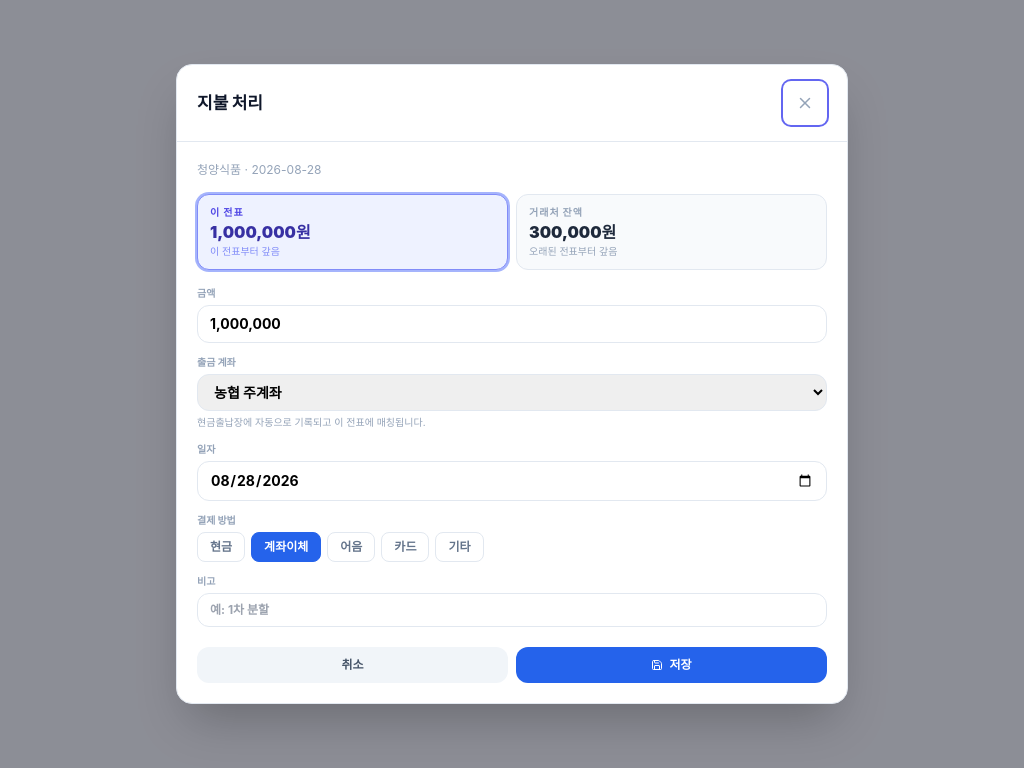
Test: 수금·지불 — 전표에서 연다 › 매입은 초과분이 **선급금**이라고 나온다
Replace the text in the 1st field with "900000" at (512, 324), box [197,305,827,343]
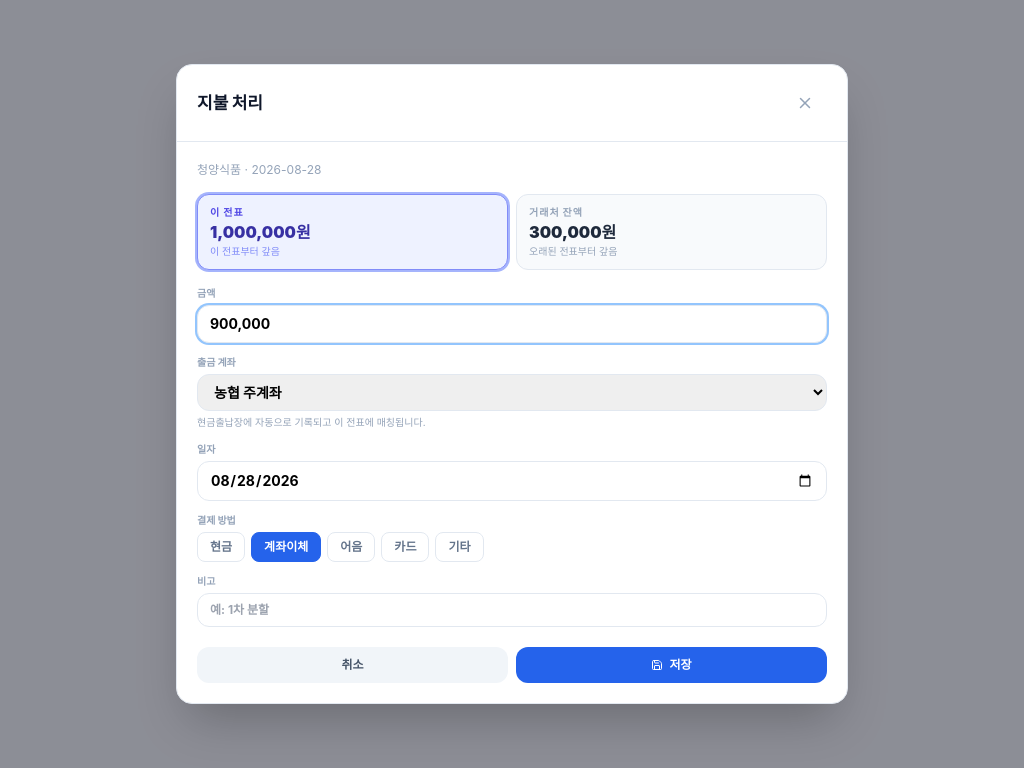
Click the button "저장" at (672, 665), box [516,647,827,683]
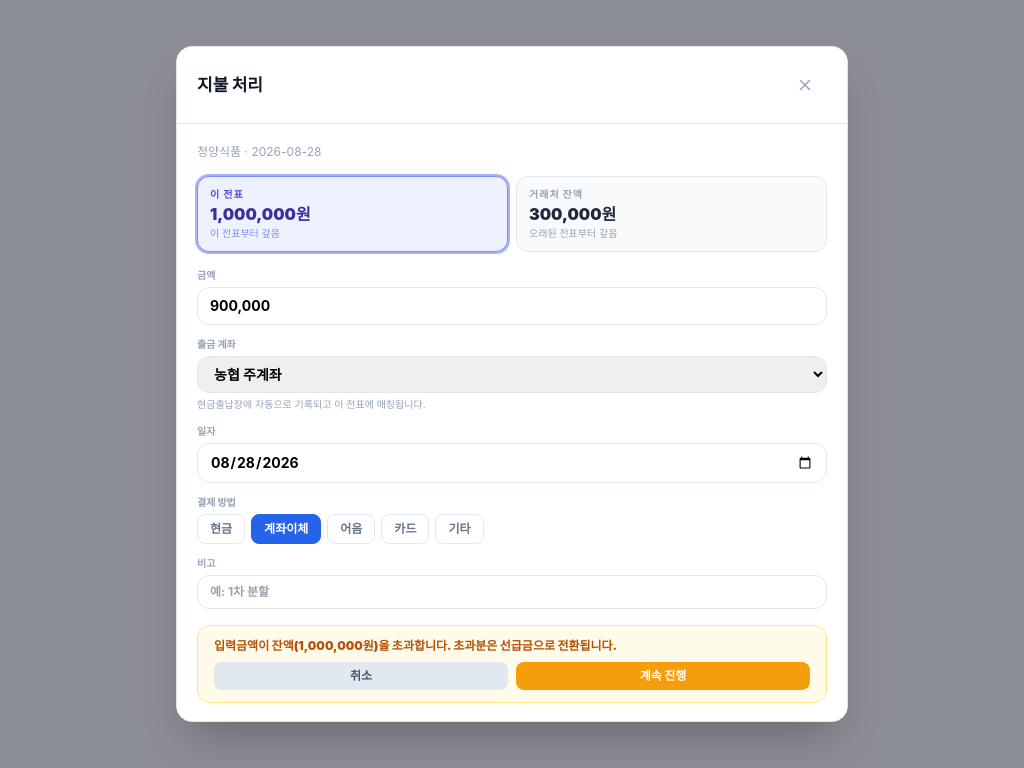
Now the text "입력금액이 잔액(1,000,000원)을 초과합니다. 초과분은 선급금으로 전환됩니다." is shown, box [214,638,617,653]
